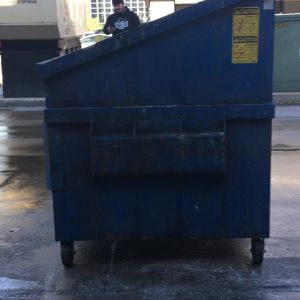Dumpster: (28, 1, 280, 280)
Person: (99, 1, 144, 39)
